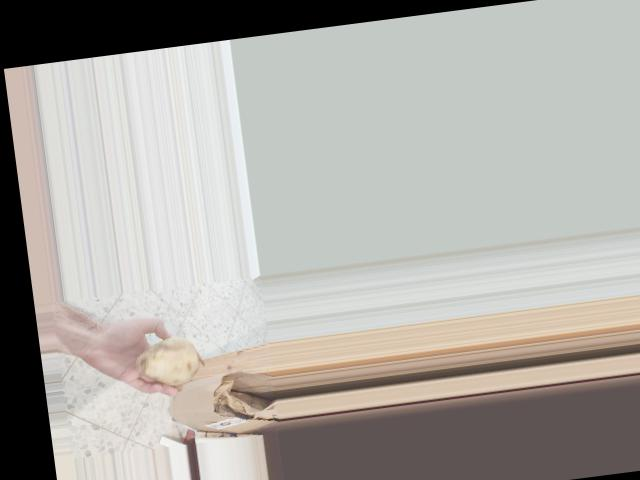onion: (129, 330, 205, 394)
